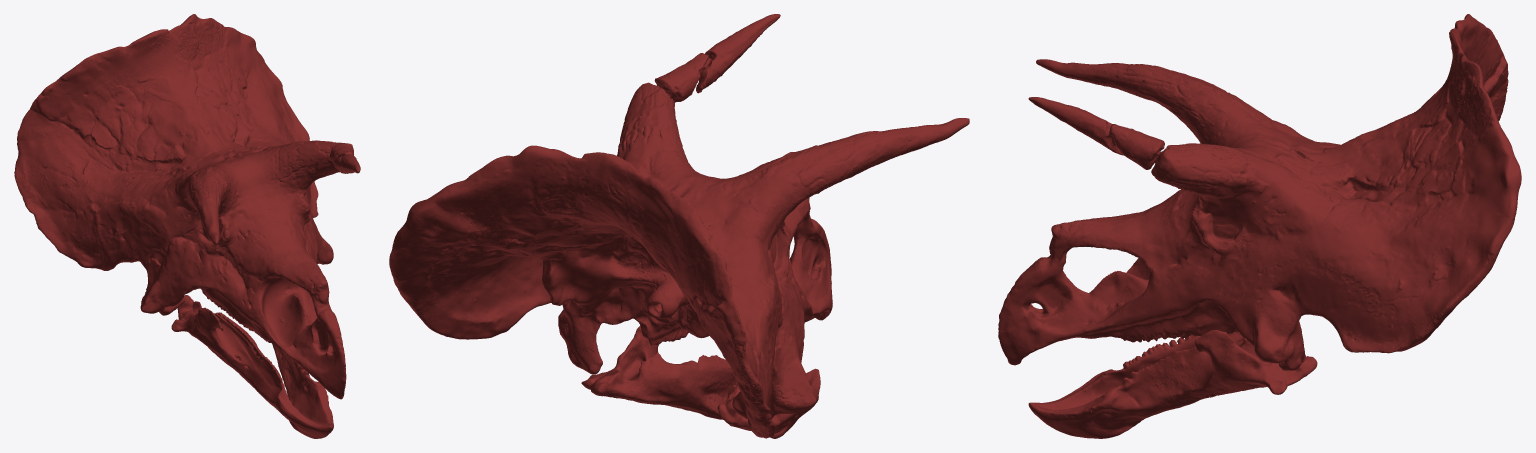
File: triceratops.glb
3 renders of one model, left to right at view 1: azimuth 30°, elevation 25°; view 2: azimuth 150°, elevation 25°; view 3: azimuth 270°, elevation 25°, orthographic. The views are drawn at different scales.
Parts seen in each view (by area): view 1: Object_2; view 2: Object_2; view 3: Object_2.
Part boxes in pixels (<box>): Object_2: <box>14,14,360,438</box>; Object_2: <box>389,14,969,438</box>; Object_2: <box>998,14,1521,438</box>.
Bounding box in the file's own units: 77.45 × 81.67 × 97.82.
